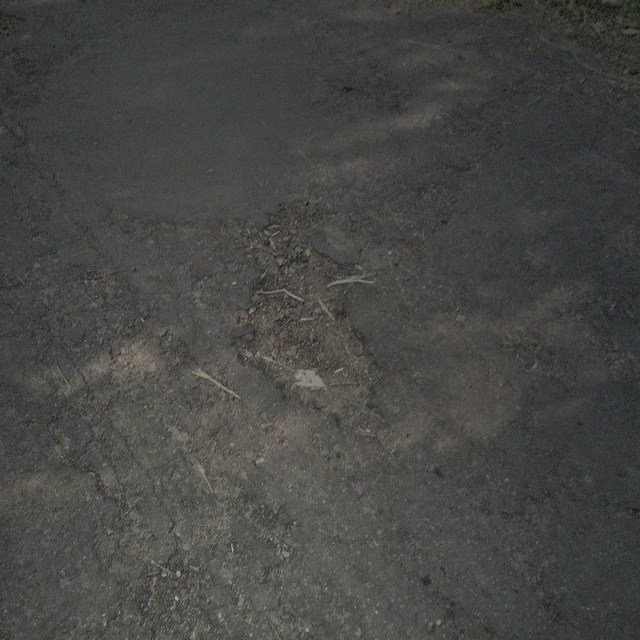pothole: (225, 197, 395, 442)
